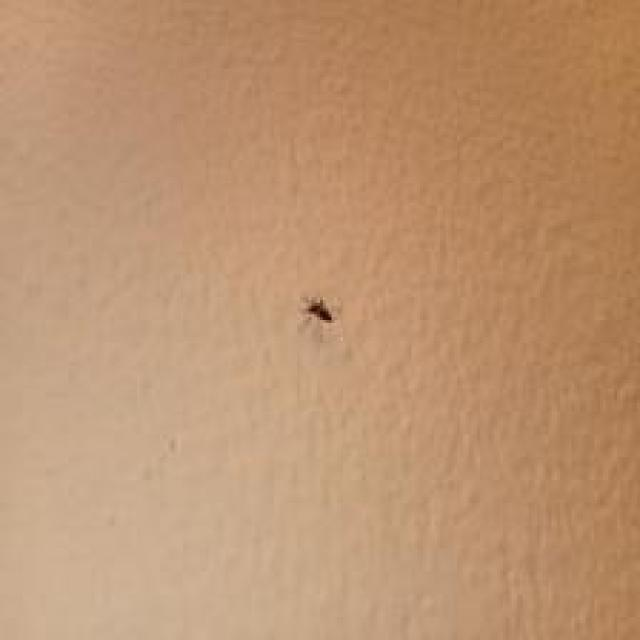Aedes albopictus: (300, 294, 334, 326)
